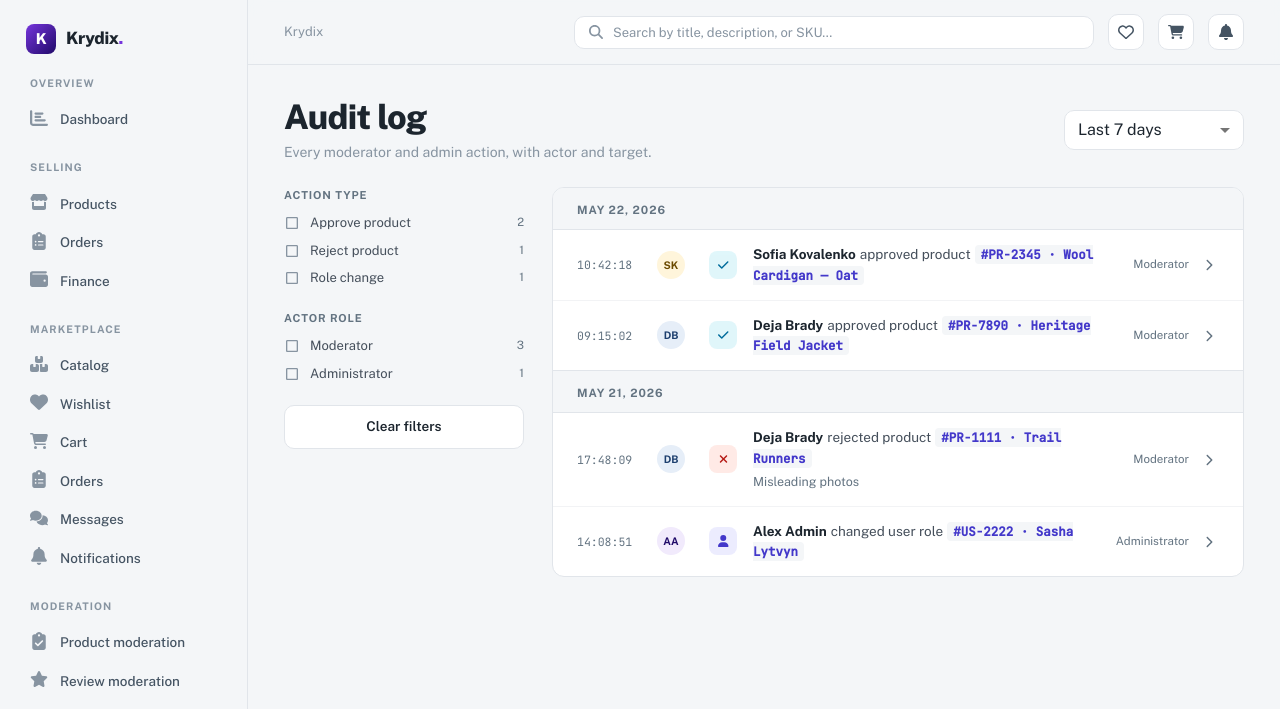
Test case: AdminAuditPage › filters by product.approve and shows only matching events
What coordinates should you click on to do the following:
click the checkbox with test id "audit-filter-action-product.approve"
I would click on:
 (404, 223)
Its box is x1=284 y1=213 x2=524 y2=233.
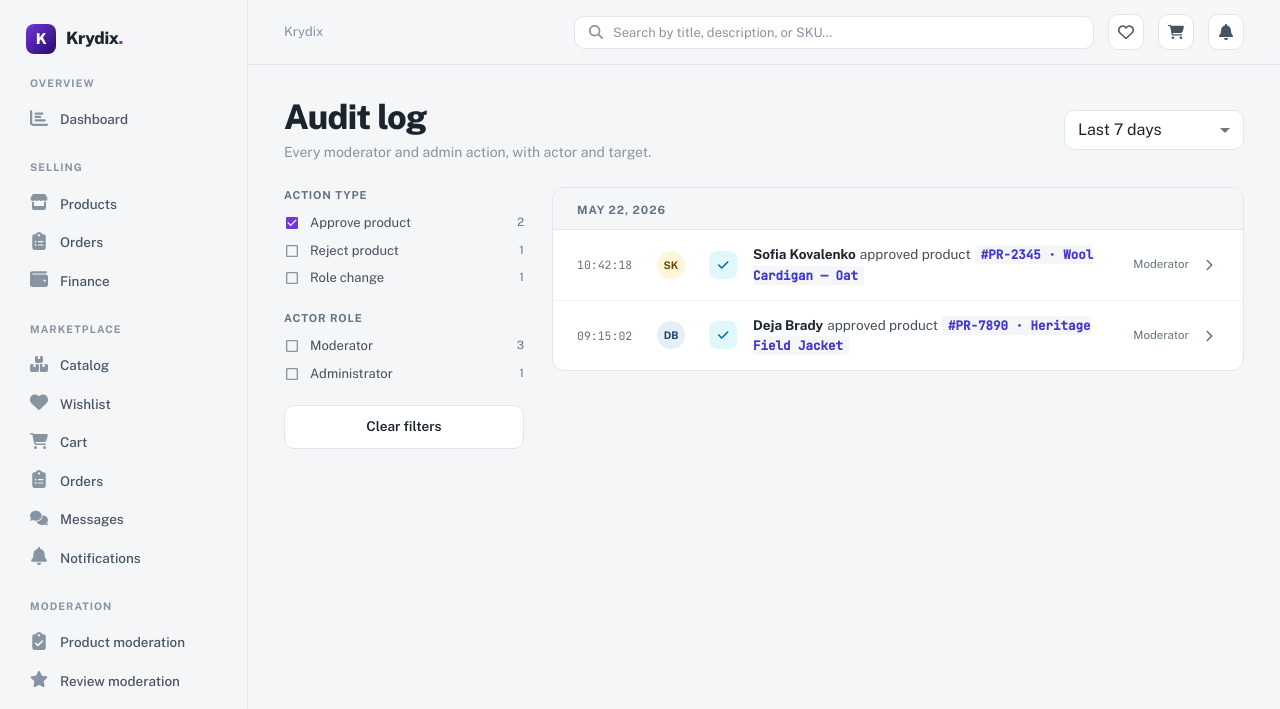
Check: the number of buttons with test id "audit-event-row" is 2, box x1=553 y1=230 x2=1243 y2=300; x1=577 y1=316 x2=1212 y2=355
Check: the link "Trail Runners" is gone
Check: the button "changed user role" is gone
